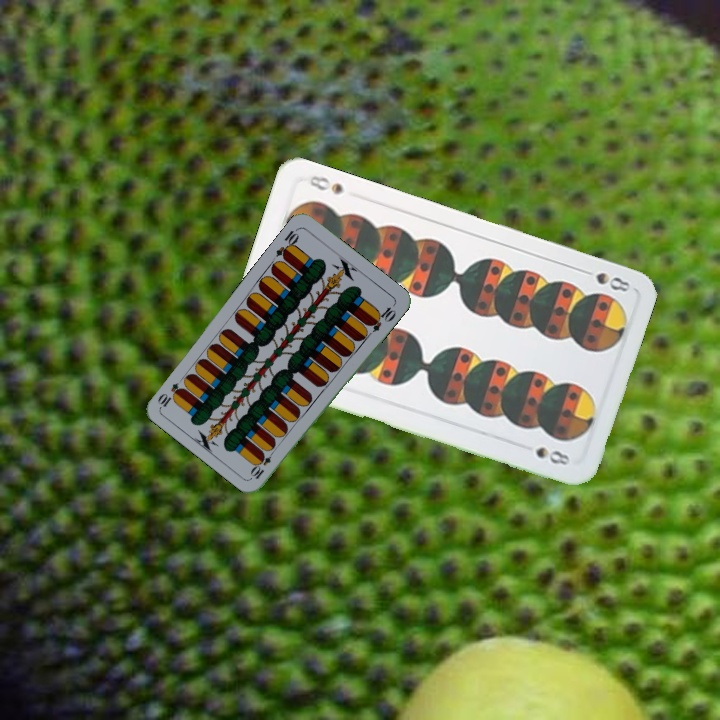E10: (247, 445, 278, 482), (272, 224, 302, 262)
S8: (576, 265, 633, 295)
